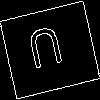U: (24, 24, 68, 79)
